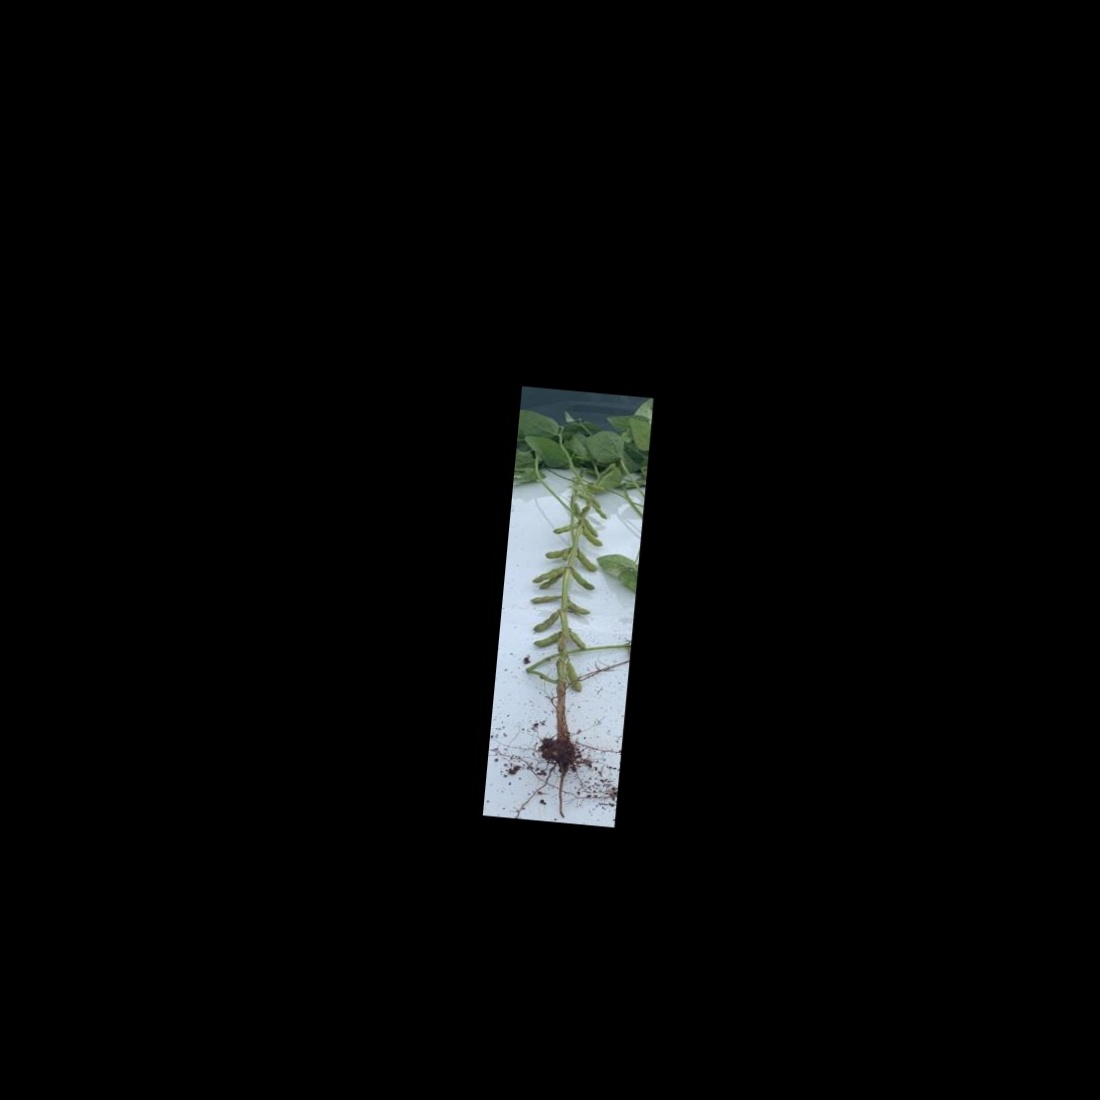pod: (565, 565, 599, 594), (530, 605, 563, 635), (530, 561, 565, 586), (563, 662, 589, 694), (576, 521, 604, 549), (563, 627, 591, 653), (522, 592, 564, 609), (532, 630, 560, 652), (564, 600, 596, 617), (540, 543, 568, 560), (552, 519, 572, 535)
soy: (494, 415, 646, 779)
